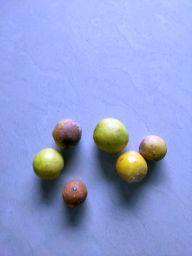lemon: (94, 118, 129, 151), (114, 151, 148, 184), (33, 148, 64, 180), (51, 118, 81, 147), (61, 180, 89, 208), (138, 136, 167, 161)
